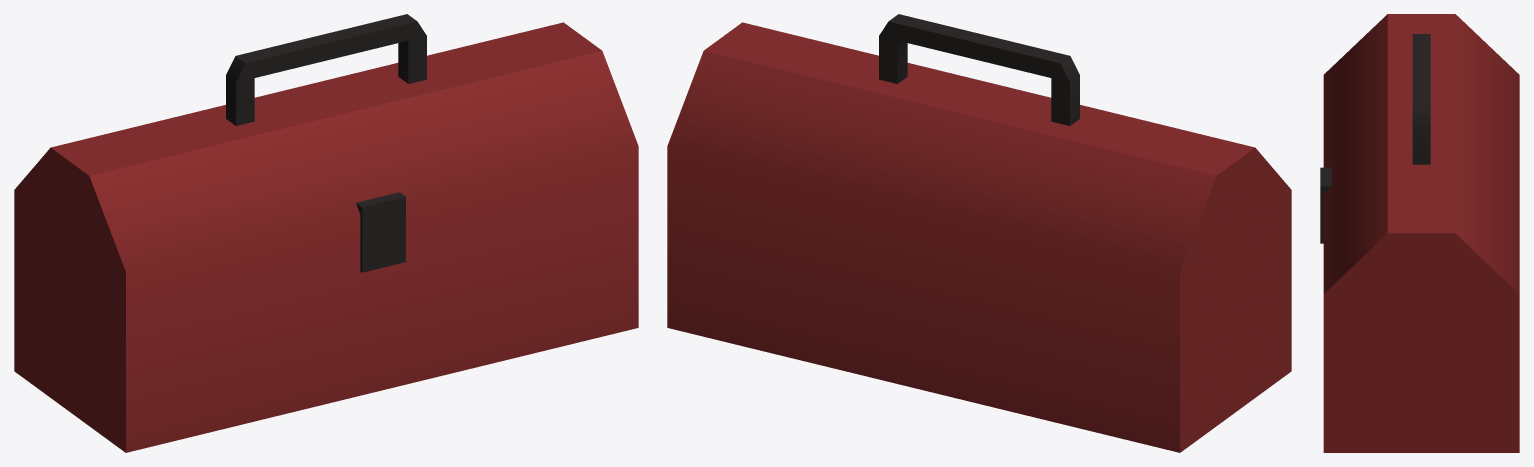
Rendered from Toolbox.fbx.
3 renders of one model, left to right at view 1: azimuth 30°, elevation 25°; view 2: azimuth 150°, elevation 25°; view 3: azimuth 270°, elevation 25°, orthographic. The views are drawn at different scales.
Visible parts, largest first — view 1: Mechanic_Toolbox; view 2: Mechanic_Toolbox; view 3: Mechanic_Toolbox.
Part boxes in pixels (x1,y1,x2,y2): Mechanic_Toolbox: (14,14,638,452); Mechanic_Toolbox: (667,14,1291,452); Mechanic_Toolbox: (1320,14,1519,452).
Bounding box in the file's own units: 11.67 × 6.76 × 4.47.
